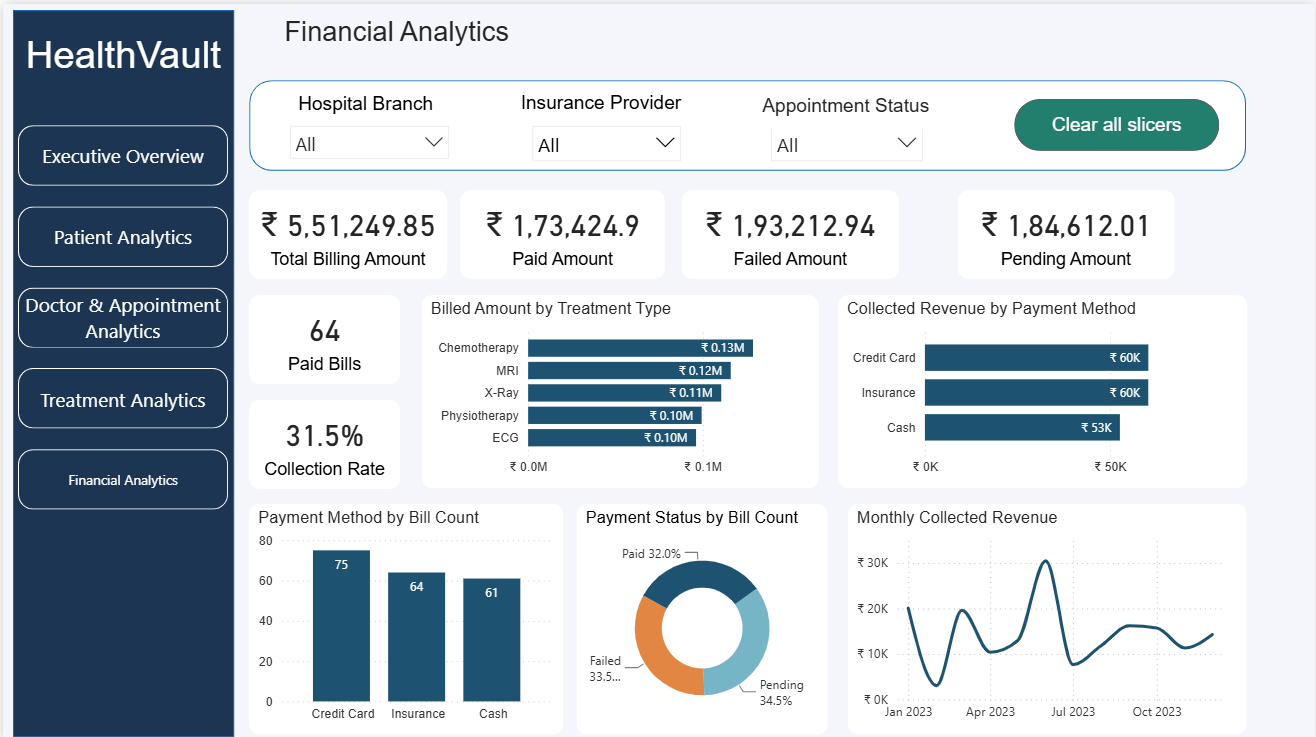

What the dashboard file says about the page in this screenshot:
{"tool":"powerbi","page":{"name":"Financial Analytics","canvas":[1280,720],"ordinal":4},"visuals":[{"type":"shape","box":[10,5.7,215.7,710],"z":0},{"type":"textbox","box":[9.7,23.6,215.3,62.5],"z":1000},{"type":"pageNavigator","box":[14.1,118.3,205.6,377.5],"z":2000},{"type":"textbox","box":[270,7.1,248.6,48.6],"z":3000},{"type":"shape","box":[240.6,73.9,972.5,88.4],"z":4000},{"type":"actionButton","box":[987,92.8,200,50.7],"z":5000},{"type":"card","fields":{"Values":["billing_measure.Paid Bills"]},"box":[240,284.5,147.3,86.4],"z":6000},{"type":"card","fields":{"Values":["billing_measure.Total Billing Amount"]},"box":[240,181.6,193.1,86.4],"z":7000},{"type":"card","fields":{"Values":["billing_measure.Paid Amount"]},"box":[445.8,181.6,199.4,86.4],"z":8000},{"type":"card","fields":{"Values":["billing_measure.Collection Rate"]},"box":[240,386.1,147.3,86.4],"z":11000},{"type":"card","fields":{"Values":["billing_measure.Pending Amount"]},"box":[932.3,181.6,210.8,86.4],"z":12000},{"type":"card","fields":{"Values":["billing_measure.Failed Amount"]},"box":[661.7,181.6,212.1,86.4],"z":13000},{"type":"donutChart","title":" Payment Status by Bill Count","fields":{"Category":["billing.payment_status"],"Y":["billing_measure.Count Total Bill"]},"box":[560.1,487.7,245.1,224.8],"z":14000},{"type":"clusteredBarChart","title":"Collected Revenue by Payment Method","fields":{"Category":["billing.payment_method"],"Y":["billing_measure.Paid Amount"]},"box":[814.1,284.5,398.8,188],"z":15000},{"type":"columnChart","title":"Payment Method by Bill Count","fields":{"Category":["billing.payment_method"],"Y":["billing_measure.Count Total Bill"]},"box":[240,487.7,306.1,224.8],"z":16000},{"type":"lineChart","title":"Monthly Collected Revenue","fields":{"Category":["billing.bill_date.Variation.Date Hierarchy.Year","billing.bill_date.Variation.Date Hierarchy.Month"],"Y":["billing_measure.Paid Amount"]},"box":[824.3,487.7,388.6,224.8],"z":17000},{"type":"textbox","box":[262.5,81.9,182.6,42],"z":18000},{"type":"textbox","box":[500,80.6,178.3,37.7],"z":19000},{"type":"slicer","fields":{"Values":["doctors.hospital_branch"]},"box":[269.6,108.7,175.4,44.9],"z":20000},{"type":"slicer","fields":{"Values":["patients.insurance_provider"]},"box":[505.8,108.7,165.2,47.8],"z":21000},{"type":"slicer","fields":{"Values":["appointments.status"]},"box":[739.1,108.7,168.1,50.7],"z":22000},{"type":"textbox","box":[724.6,84.1,195.7,37.7],"z":23000},{"type":"clusteredBarChart","title":"Billed Amount by Treatment Type","fields":{"Category":["treatments.treatment_type"],"Y":["treatment_measure.Total Treatment Cost"]},"box":[409,284.5,387.4,188],"z":23001}]}

Visuals, with their boxes in screenshot pixels (x1, y1, x2, y2), scaled from the page's 1280x720 canvas onto the 1316x737 screenshot:
shape: pyautogui.locateOnScreen(10, 6, 232, 733)
textbox: pyautogui.locateOnScreen(10, 24, 231, 88)
pageNavigator: pyautogui.locateOnScreen(14, 121, 226, 508)
textbox: pyautogui.locateOnScreen(278, 7, 533, 57)
shape: pyautogui.locateOnScreen(247, 76, 1247, 166)
actionButton: pyautogui.locateOnScreen(1015, 95, 1220, 147)
card - billing_measure.Paid Bills: pyautogui.locateOnScreen(247, 291, 398, 380)
card - billing_measure.Total Billing Amount: pyautogui.locateOnScreen(247, 186, 445, 274)
card - billing_measure.Paid Amount: pyautogui.locateOnScreen(458, 186, 663, 274)
card - billing_measure.Collection Rate: pyautogui.locateOnScreen(247, 395, 398, 484)
card - billing_measure.Pending Amount: pyautogui.locateOnScreen(959, 186, 1175, 274)
card - billing_measure.Failed Amount: pyautogui.locateOnScreen(680, 186, 898, 274)
" Payment Status by Bill Count" donutChart: pyautogui.locateOnScreen(576, 499, 828, 729)
"Collected Revenue by Payment Method" clusteredBarChart: pyautogui.locateOnScreen(837, 291, 1247, 484)
"Payment Method by Bill Count" columnChart: pyautogui.locateOnScreen(247, 499, 561, 729)
"Monthly Collected Revenue" lineChart: pyautogui.locateOnScreen(847, 499, 1247, 729)
textbox: pyautogui.locateOnScreen(270, 84, 458, 127)
textbox: pyautogui.locateOnScreen(514, 83, 697, 121)
slicer - doctors.hospital_branch: pyautogui.locateOnScreen(277, 111, 458, 157)
slicer - patients.insurance_provider: pyautogui.locateOnScreen(520, 111, 690, 160)
slicer - appointments.status: pyautogui.locateOnScreen(760, 111, 933, 163)
textbox: pyautogui.locateOnScreen(745, 86, 946, 125)
"Billed Amount by Treatment Type" clusteredBarChart: pyautogui.locateOnScreen(421, 291, 819, 484)
